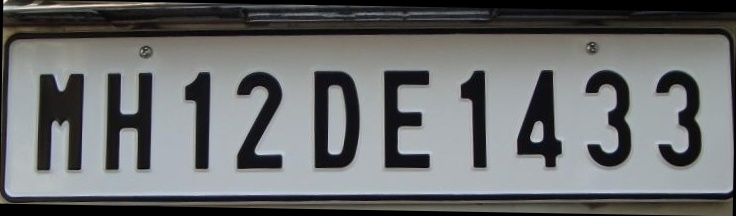character: (379, 64, 435, 172), (232, 66, 288, 172), (101, 70, 155, 175), (35, 68, 87, 176), (309, 64, 361, 171), (581, 64, 633, 170), (513, 64, 564, 171), (653, 66, 704, 168), (457, 64, 491, 170), (181, 67, 213, 170)
